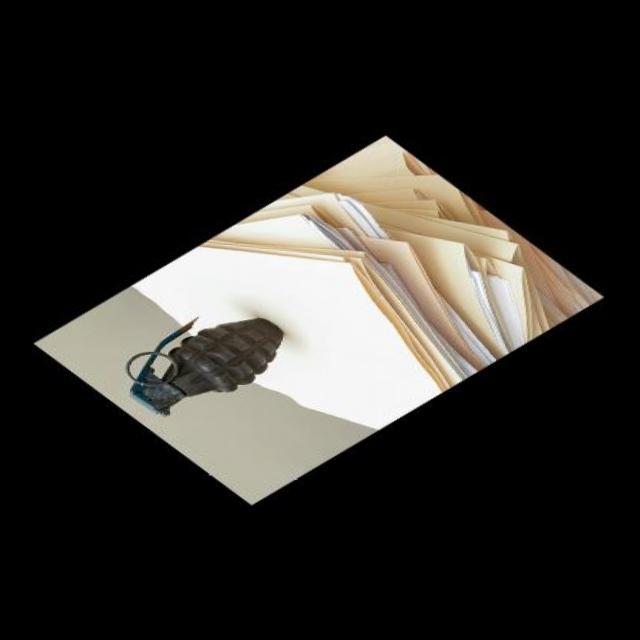grenade: (126, 299, 290, 423)
